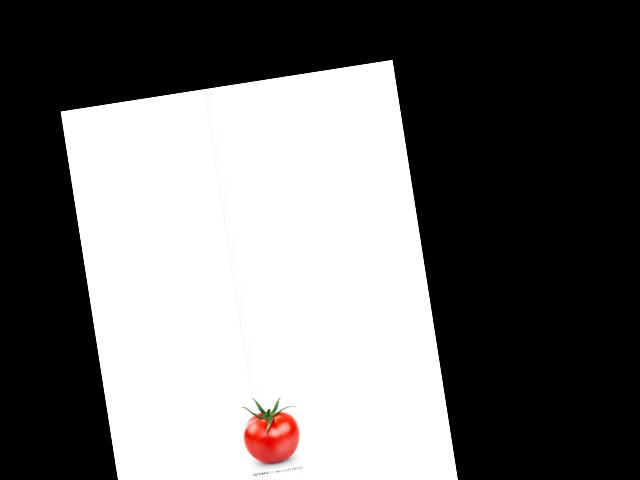tomato: (239, 407, 303, 466)
